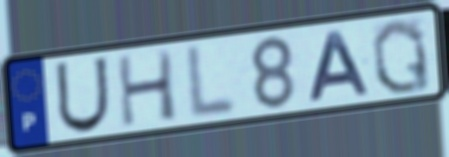8: (247, 33, 299, 112)
A: (307, 28, 374, 104)
H: (114, 47, 180, 130)
L: (185, 41, 239, 122)
Q: (369, 16, 434, 97)
U: (53, 55, 111, 136)
